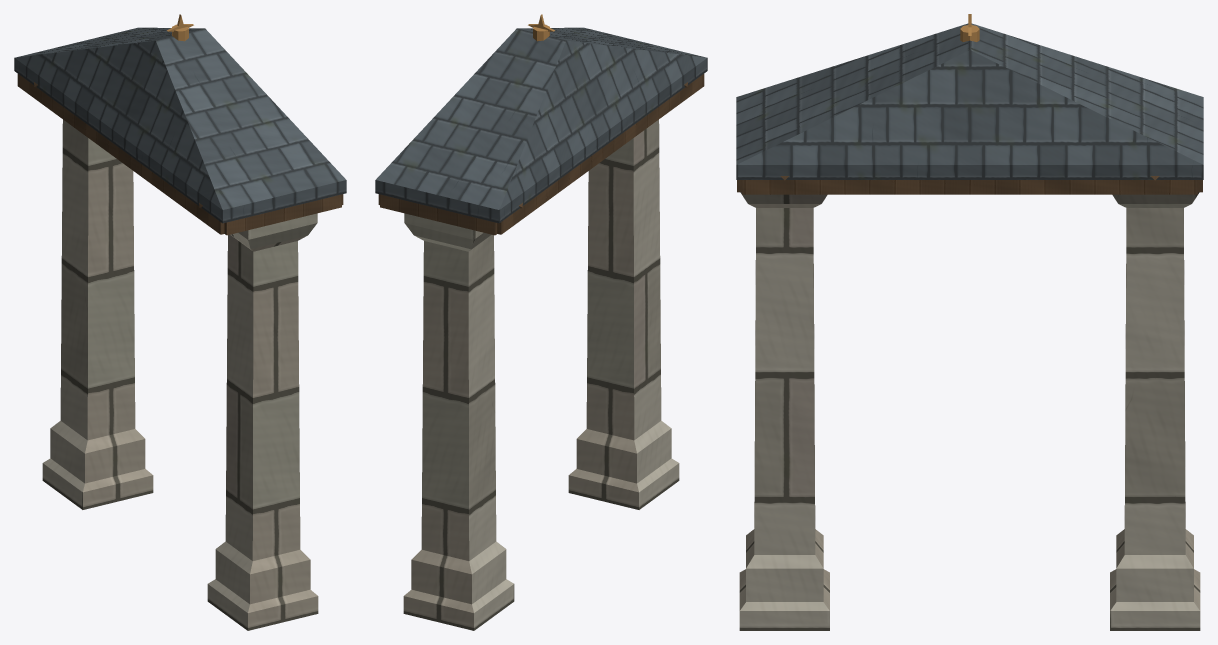
Rendered from Furn_Arcade2_Joint.fbx.
3 views of the same model, side by side, from view 1: azimuth 30°, elevation 25°; view 2: azimuth 150°, elevation 25°; view 3: azimuth 270°, elevation 25° (orthographic). The views are drawn at different scales.
Visible parts, largest first — view 1: Furn_Arcade2_Joint_Mesh; view 2: Furn_Arcade2_Joint_Mesh; view 3: Furn_Arcade2_Joint_Mesh.
Boxes of the visible parts, <box> form: Furn_Arcade2_Joint_Mesh: <box>14,14,346,630</box>; Furn_Arcade2_Joint_Mesh: <box>375,14,707,630</box>; Furn_Arcade2_Joint_Mesh: <box>736,14,1203,630</box>.
Bounding box in the file's own units: 1.2 × 4.8 × 3.4.
4 materials, 3 textured.
